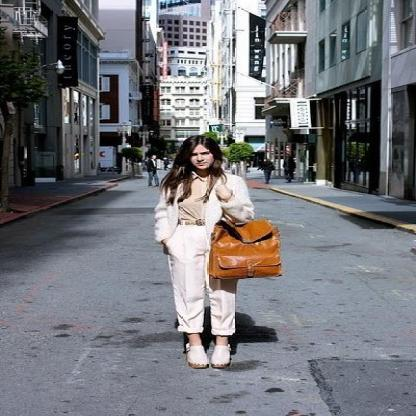bag: (207, 208, 281, 291)
pants: (168, 258, 234, 335)
shirt: (155, 175, 256, 264)
shoe: (187, 344, 231, 370)
